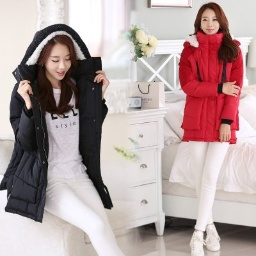face: (37, 34, 80, 90), (194, 2, 234, 43)
